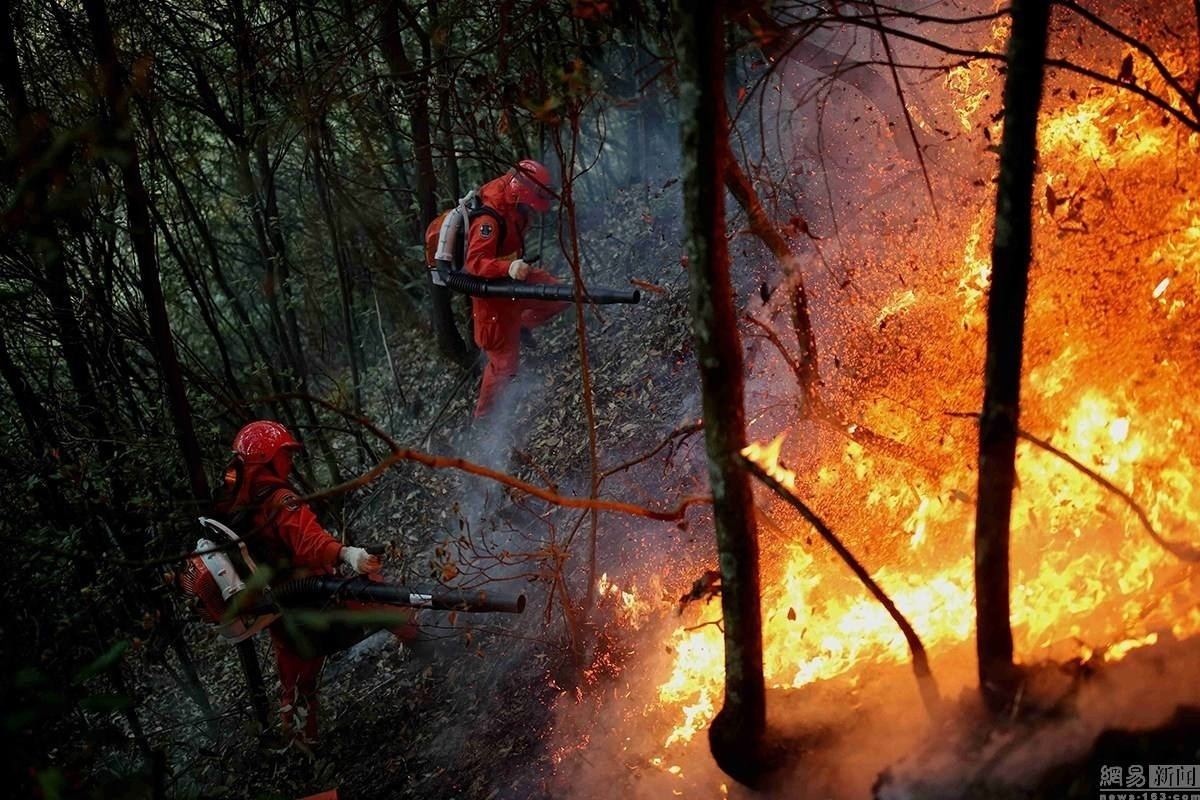fire: (729, 36, 1197, 718)
